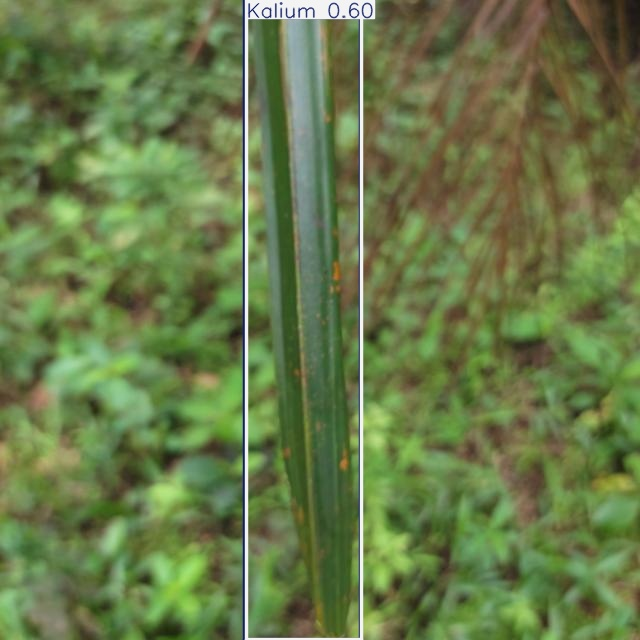Kalium: (247, 0, 362, 640)
nitrogen: (244, 0, 360, 639)
